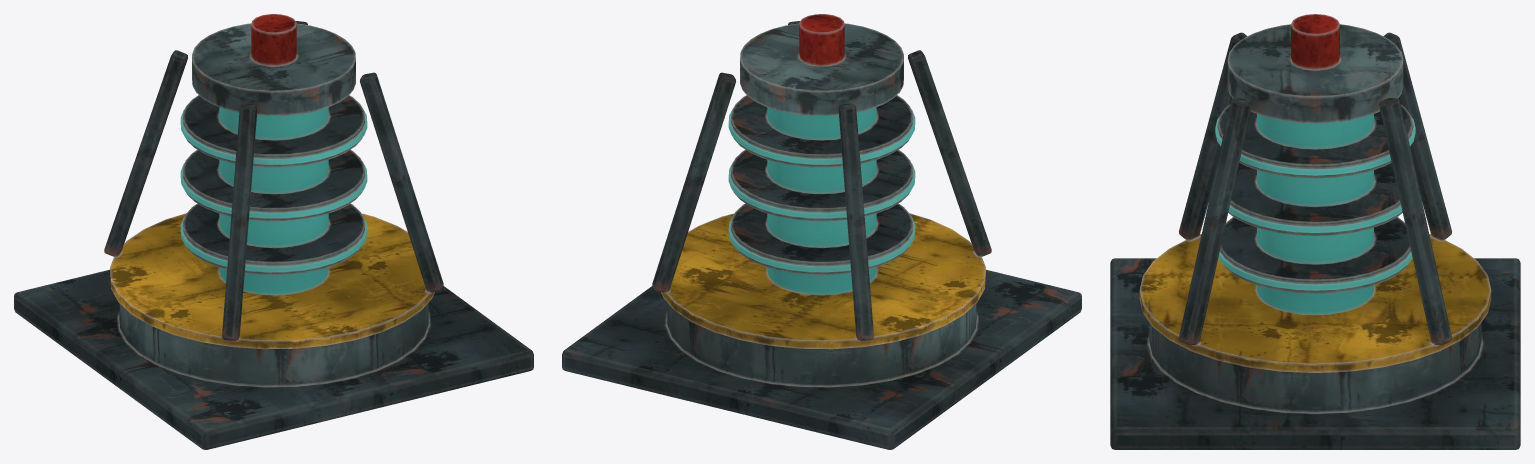
The model's file is core_module.glb.
3 renders of one model, left to right at view 1: azimuth 30°, elevation 25°; view 2: azimuth 150°, elevation 25°; view 3: azimuth 270°, elevation 25°, orthographic. The views are drawn at different scales.
Parts seen in each view (by area): view 1: te_core_module; view 2: te_core_module; view 3: te_core_module.
Part boxes in pixels (x1,y1,x2,y2): te_core_module: (14,14,533,449); te_core_module: (562,14,1081,449); te_core_module: (1110,14,1520,449).
Size of the model in its own units: 0.84 by 0.77 by 0.84.
1 material, 1 textured.
